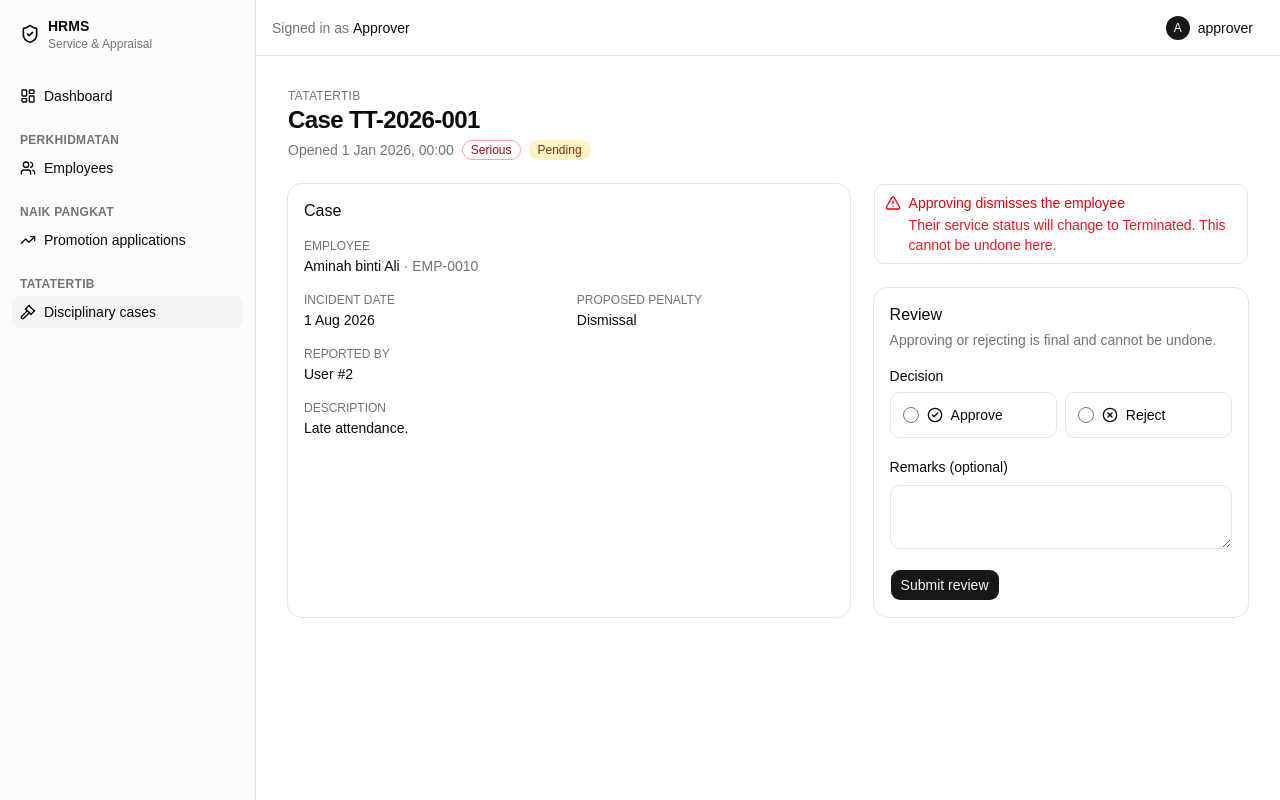
Test: disciplinary review › warns before approving a dismissal and never sends effective_date
Expected: the text "Approving dismisses the employee" is shown, [909,195,1125,211]
Click the radio button labelled "Approve": x=911, y=415 [903,407,919,423]
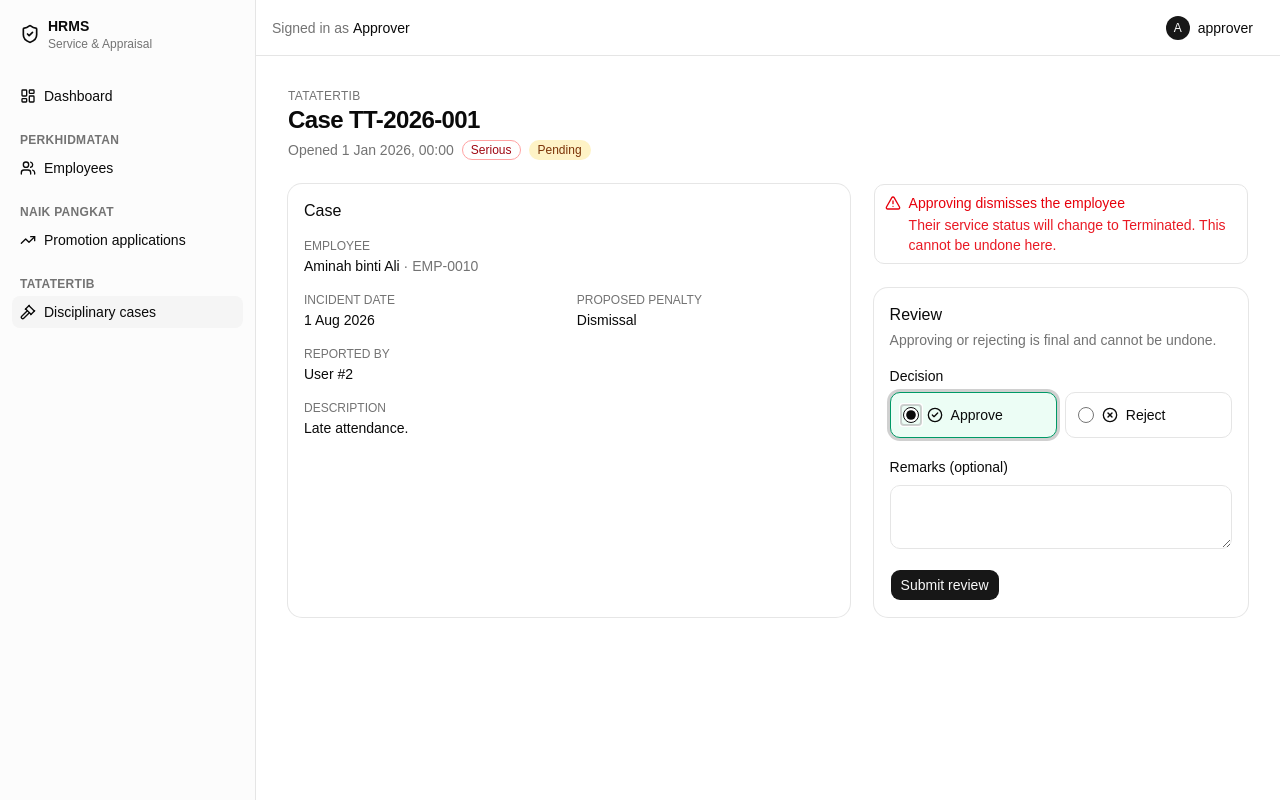
Click the button "Submit review": x=945, y=585 [890,569,1000,601]
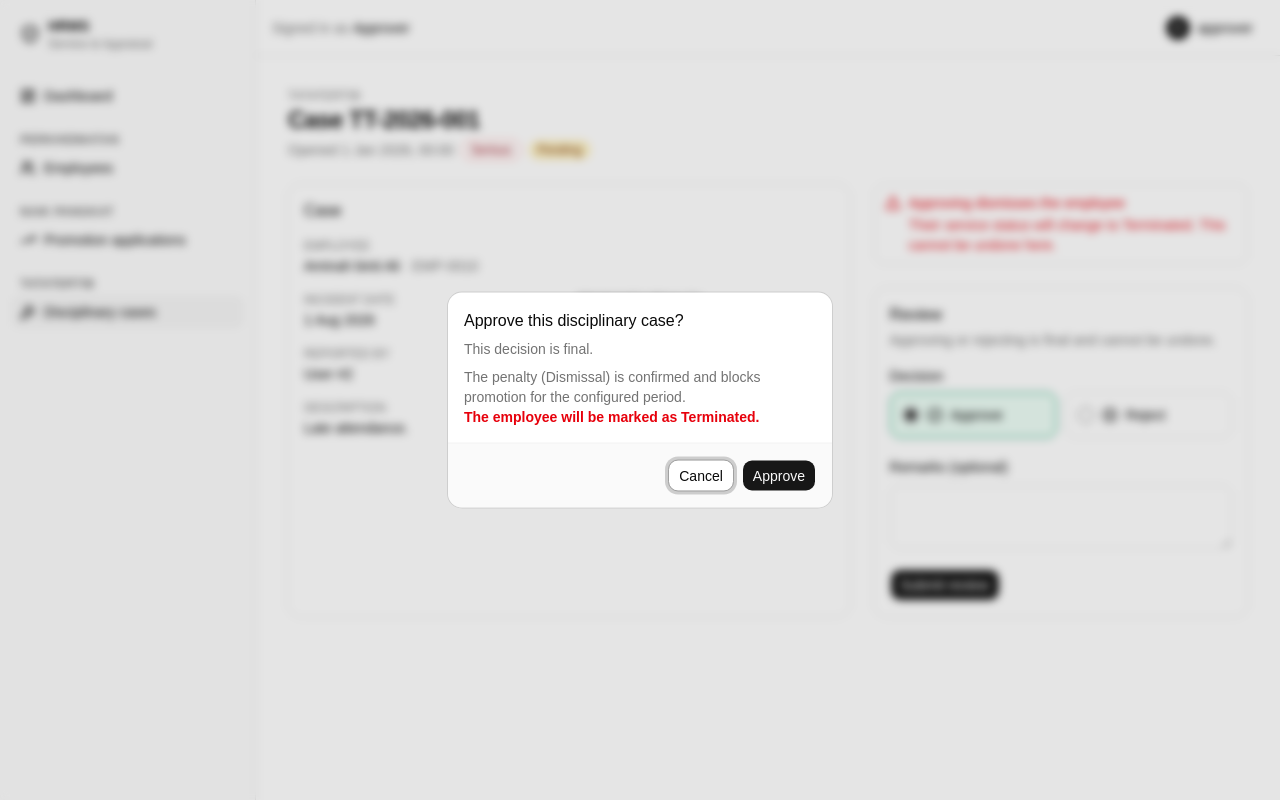
Expected: the text "The employee will be marked as Terminated." is shown, [464,408,759,424]
Click the button "Approve": x=779, y=476 [742,460,816,492]
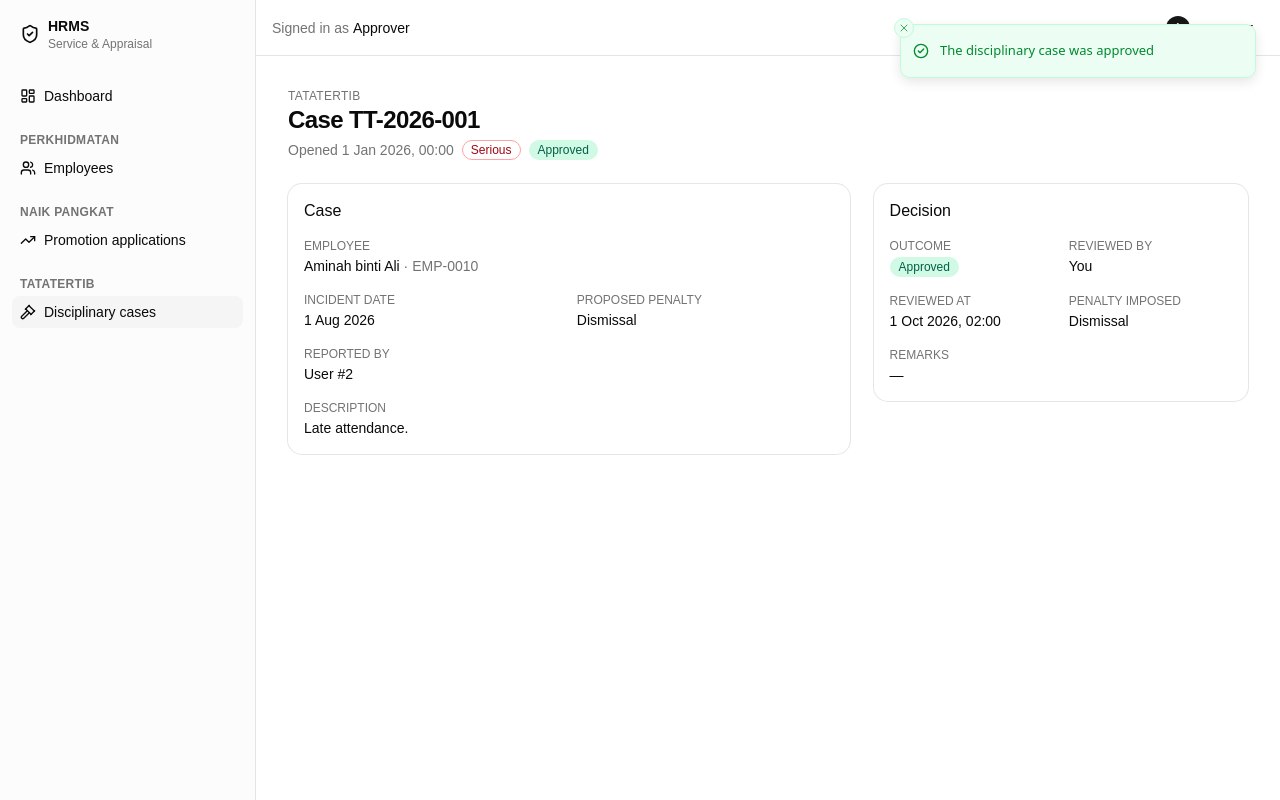
Expected: the text "Penalty imposed" is shown, [1069,294,1181,308]
